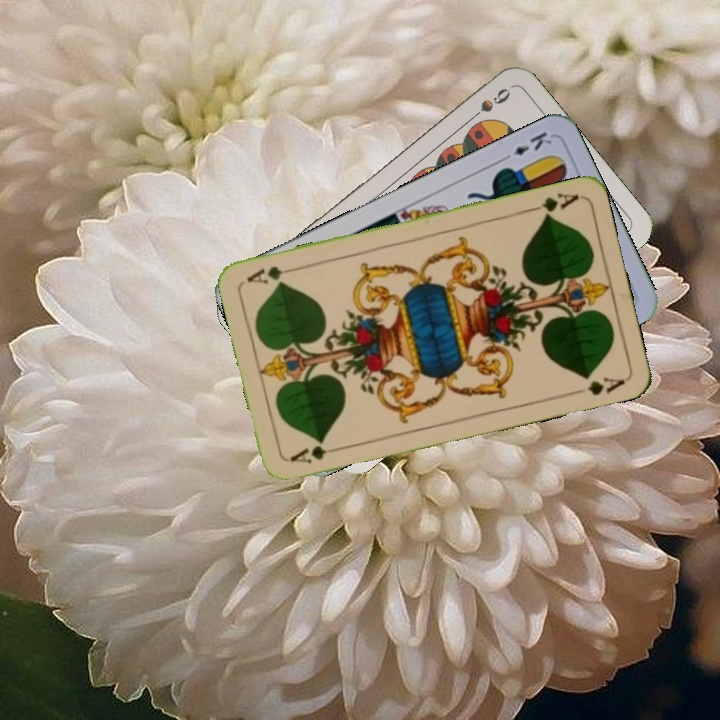EK: (497, 127, 555, 164)
GA: (523, 189, 582, 220), (285, 438, 344, 467)
S9: (463, 84, 513, 126)
